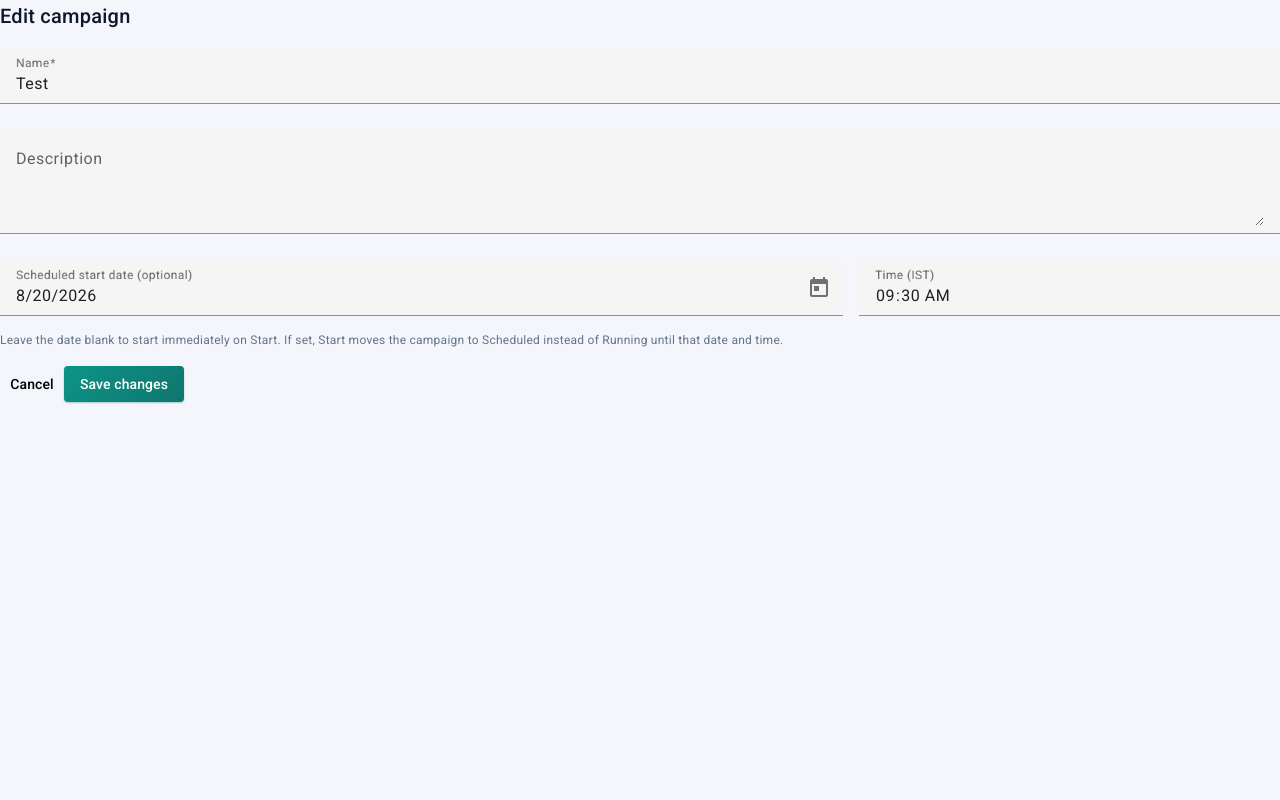
Test: CampaignFormDialogComponent (edit mode, existing scheduled date) › pre-fills the time field from the existing scheduledStartAt and opens the calendar on toggle click
This screenshot has width=1280, height=800.
Expected: the time field labelled "Time (IST)" holds "09:30", x1=875 y1=287 x2=1264 y2=303
Step 1. Click the button named "Open calendar" → (819, 288), box x1=795 y1=264 x2=843 y2=312
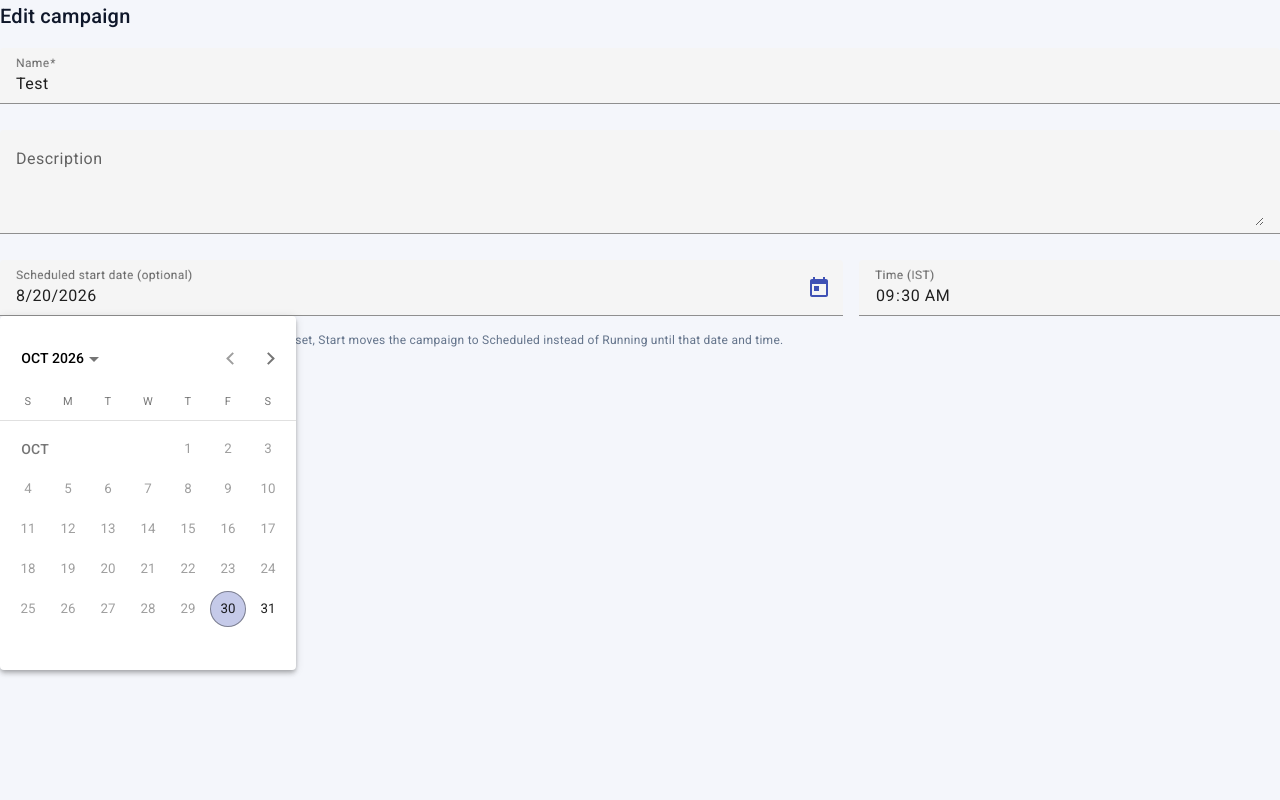
Now the element that starts with "OCT 2026" is shown, box x1=0 y1=316 x2=296 y2=670
